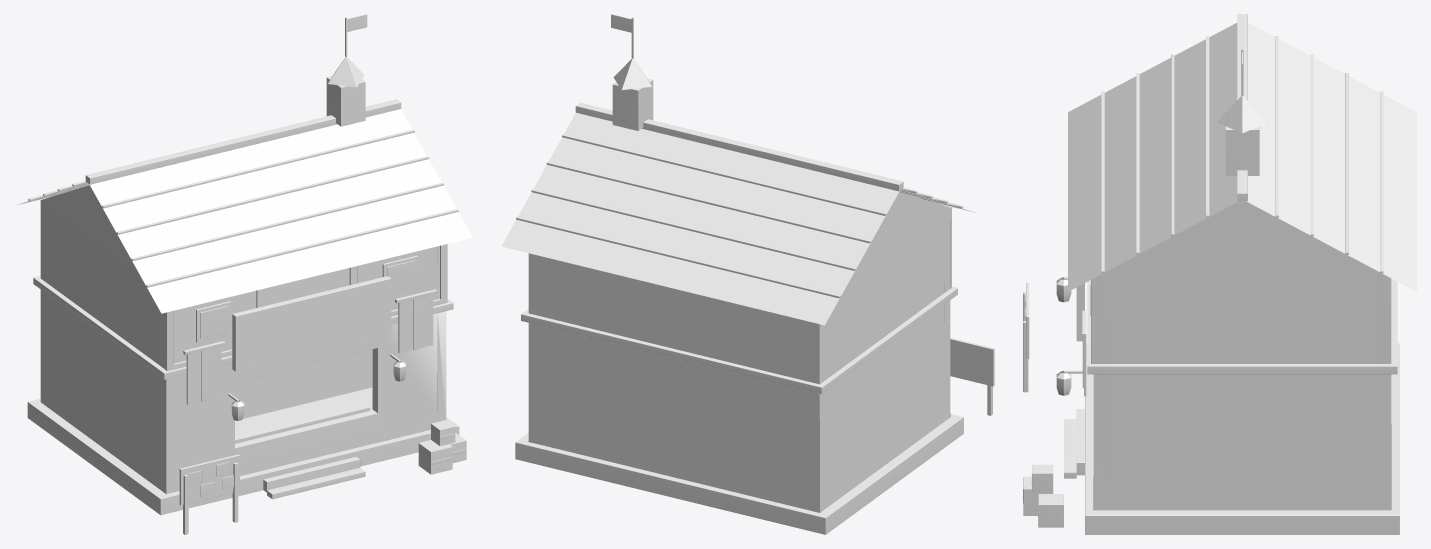
The model's file is guild_office.glb.
The picture shows the model from 3 angles, left to right: view 1: azimuth 30°, elevation 25°; view 2: azimuth 150°, elevation 25°; view 3: azimuth 270°, elevation 25°; orthographic projection. The views are drawn at different scales.
Visible parts, largest first — view 1: GuildOffice; view 2: GuildOffice; view 3: GuildOffice.
Part boxes in pixels (left/top/right/bottom): GuildOffice: left=16, top=14, right=472, bottom=534; GuildOffice: left=501, top=14, right=994, bottom=534; GuildOffice: left=1023, top=14, right=1416, bottom=534.
Bounding box in the file's own units: 10 × 11.98 × 9.26.
1 material, 1 textured.
